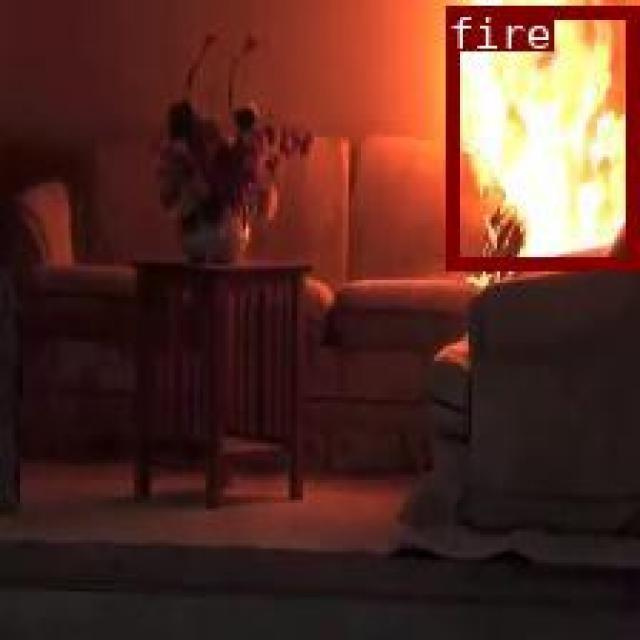fire: (444, 3, 634, 266)
